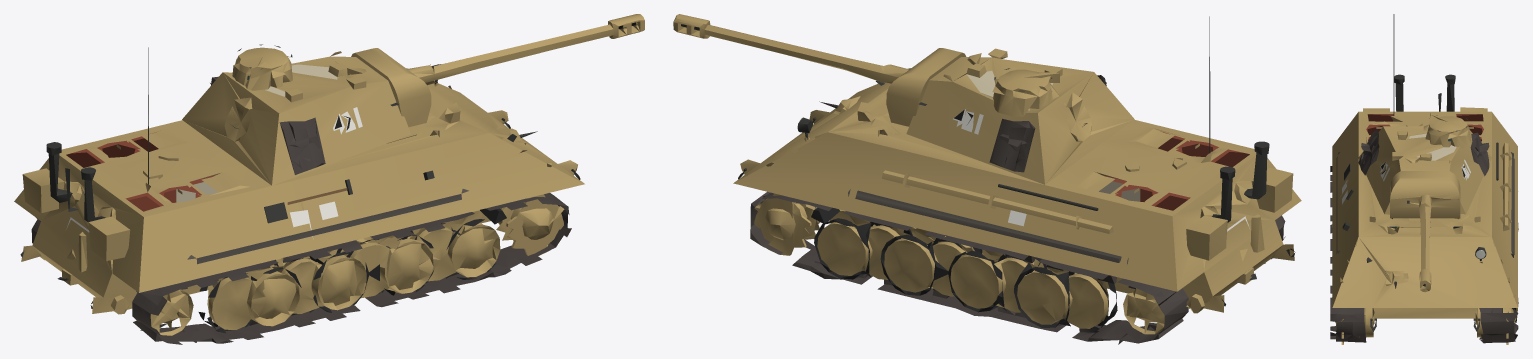
Rendered from panther_lod2.glb.
3 renders of one model, left to right at view 1: azimuth 30°, elevation 25°; view 2: azimuth 150°, elevation 25°; view 3: azimuth 270°, elevation 25°, orthographic. The views are drawn at different scales.
Visible parts, largest first — view 1: hull, turret_mesh, gun_mesh; view 2: hull, turret_mesh, gun_mesh; view 3: hull, turret_mesh, gun_mesh.
Part boxes in pixels (x1,y1,x2,y2): hull: [14, 47, 584, 344]; turret_mesh: [182, 44, 410, 185]; gun_mesh: [351, 14, 644, 127]; hull: [733, 16, 1301, 344]; turret_mesh: [906, 48, 1134, 184]; gun_mesh: [673, 14, 966, 126]; hull: [1330, 14, 1518, 344]; turret_mesh: [1358, 112, 1491, 214]; gun_mesh: [1390, 171, 1460, 292].
Size of the model in its own units: 8.85 by 4.02 by 3.32.
